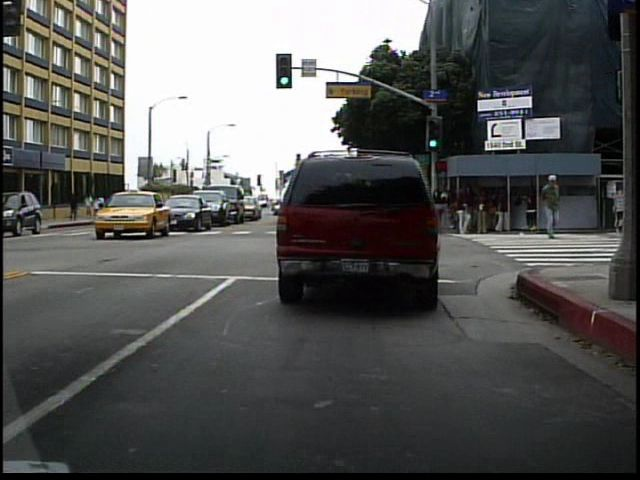person: (540, 171, 565, 242), (24, 194, 43, 230)
